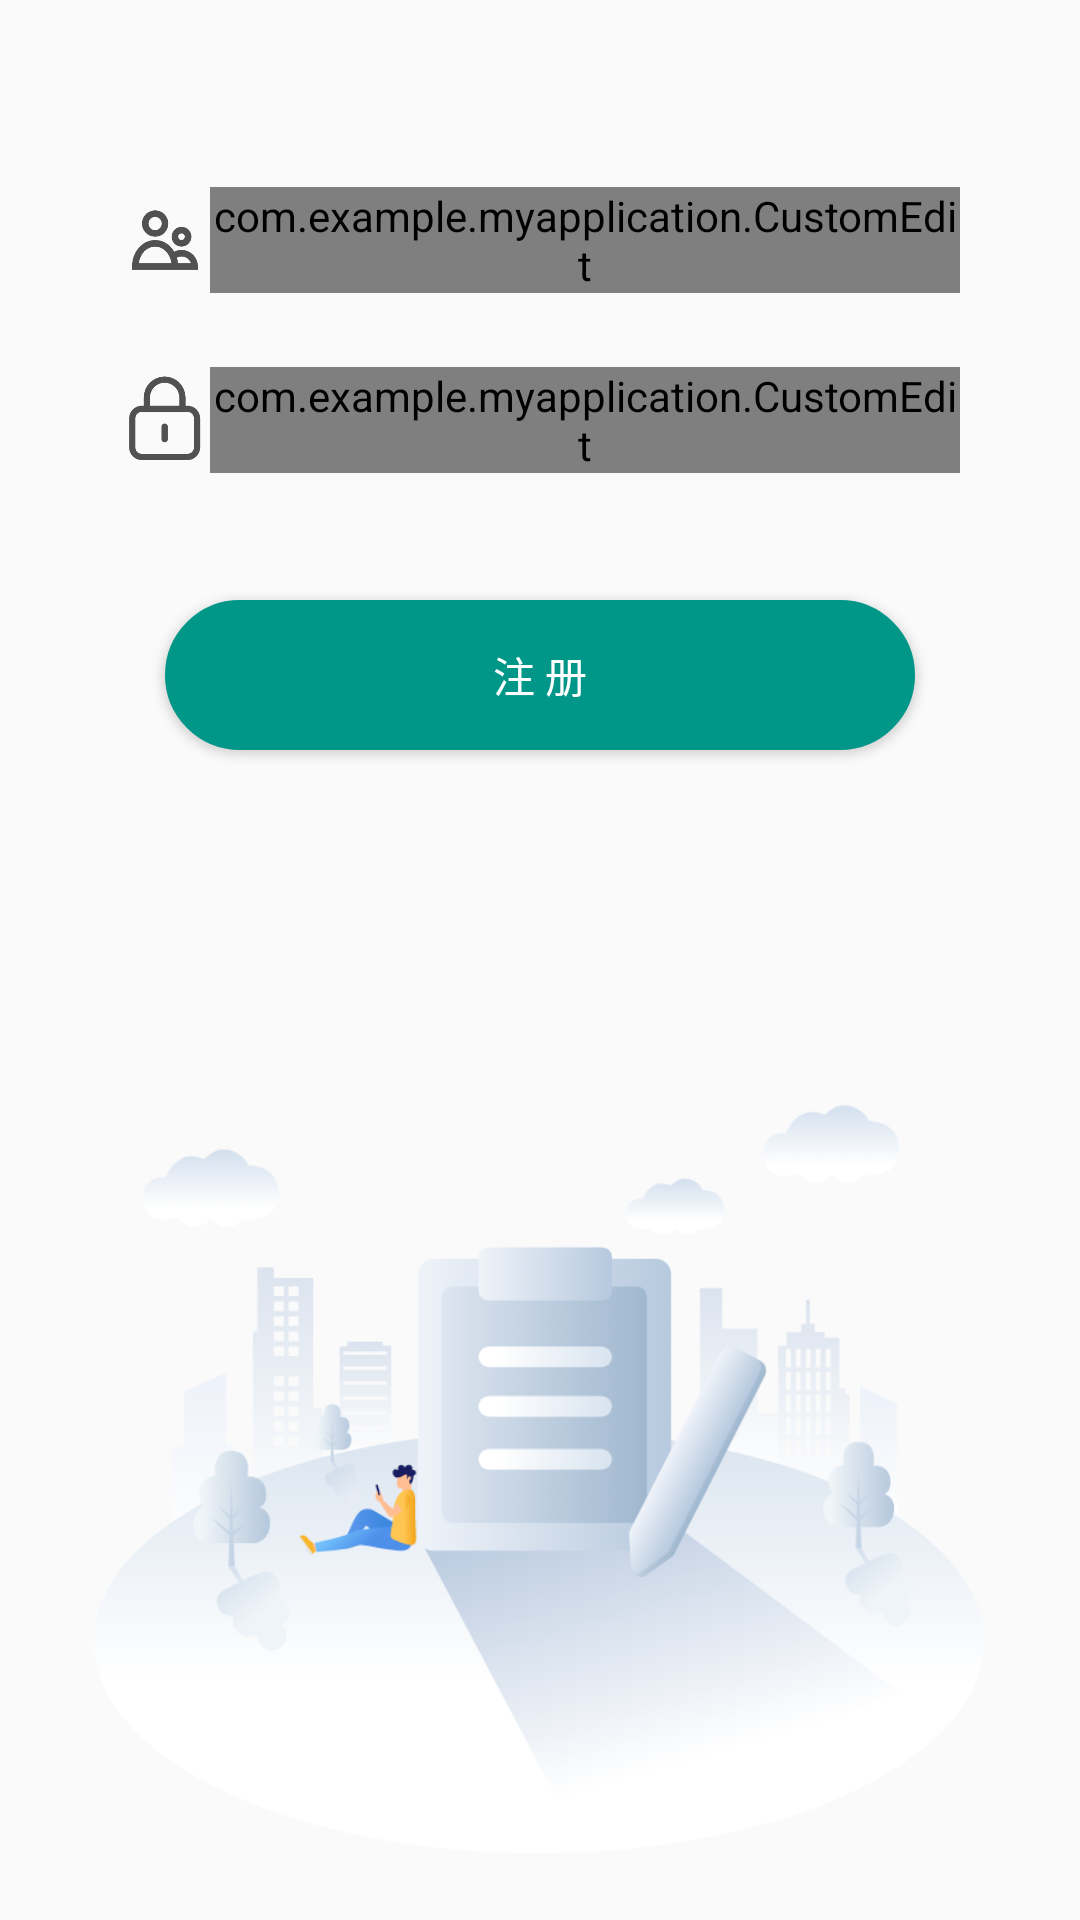

Where icons sit on this 1080w x 1920h app screen, as (x1, y1, x2, y2):
password: (129, 376, 201, 460)
username: (132, 210, 198, 270)
